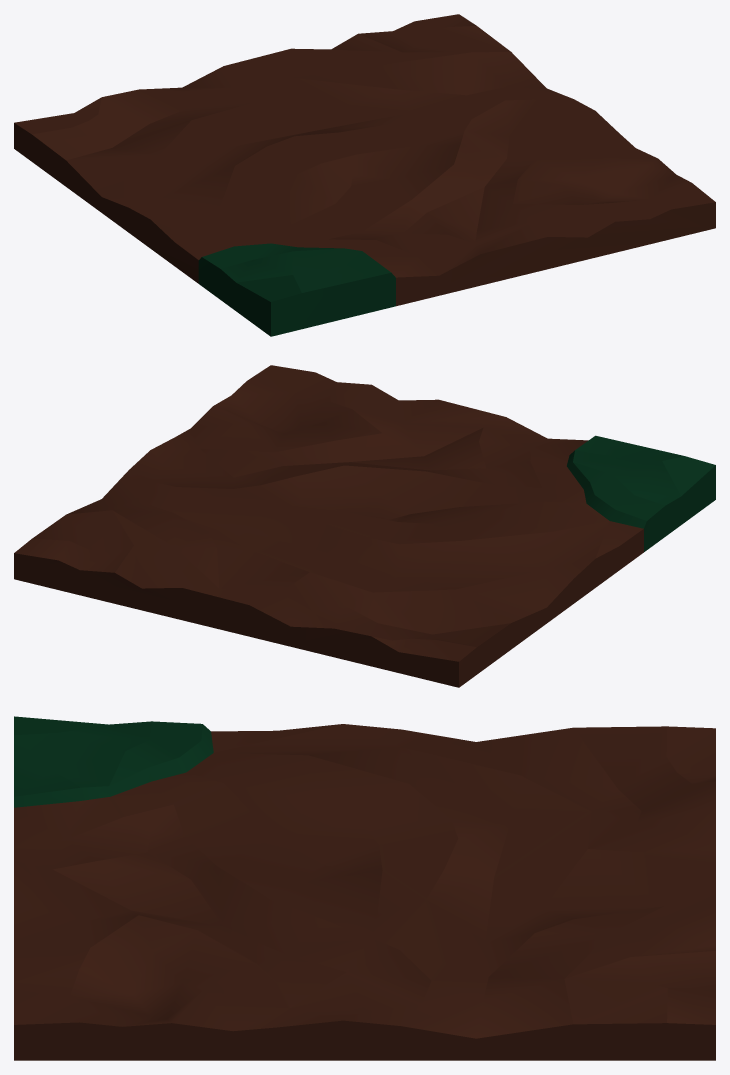
The model's file is Ground_Corner_External_LB.fbx.
3 views of the same model, one above another, from view 1: azimuth 30°, elevation 25°; view 2: azimuth 150°, elevation 25°; view 3: azimuth 270°, elevation 25° (orthographic). The views are drawn at different scales.
Visible parts, largest first — view 1: Ground_Corner_External_LB; view 2: Ground_Corner_External_LB; view 3: Ground_Corner_External_LB.
Boxes of the visible parts, left/top/right/bottom form: Ground_Corner_External_LB: left=14, top=14, right=715, bottom=336; Ground_Corner_External_LB: left=14, top=365, right=715, bottom=687; Ground_Corner_External_LB: left=14, top=716, right=715, bottom=1060.
Bounding box in the file's own units: 147 × 12.96 × 147.
